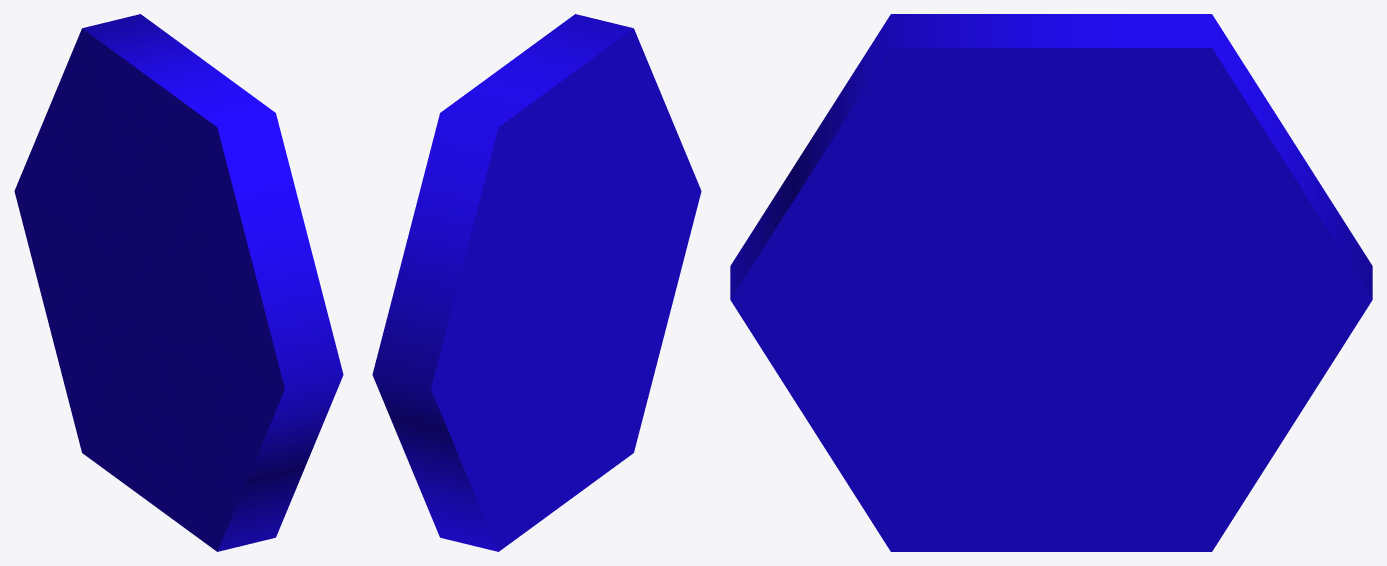
File: BlueButton.fbx
The picture shows the model from 3 angles, left to right: view 1: azimuth 30°, elevation 25°; view 2: azimuth 150°, elevation 25°; view 3: azimuth 270°, elevation 25°; orthographic projection. The views are drawn at different scales.
Visible parts, largest first — view 1: Cylinder001; view 2: Cylinder001; view 3: Cylinder001.
Boxes of the visible parts, <box> form: Cylinder001: <box>14,14,343,551</box>; Cylinder001: <box>372,14,701,551</box>; Cylinder001: <box>730,14,1372,551</box>.
Size of the model in its own units: 1 by 6.93 by 8.
